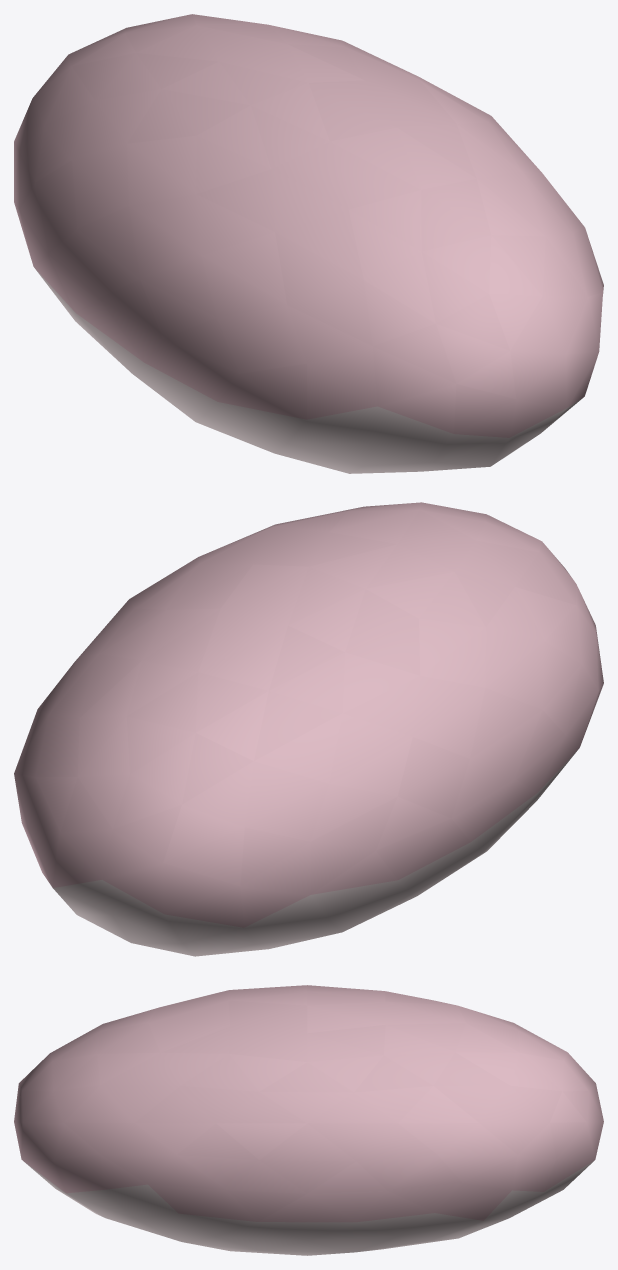
The model's file is axolotl_body.glb.
3 renders of one model, top to bottom at view 1: azimuth 30°, elevation 25°; view 2: azimuth 150°, elevation 25°; view 3: azimuth 270°, elevation 25°, orthographic. The views are drawn at different scales.
Visible parts, largest first — view 1: axolotl_body; view 2: axolotl_body; view 3: axolotl_body.
Part boxes in pixels (x1=…): axolotl_body: x1=14, y1=14, x2=603, y2=473; axolotl_body: x1=14, y1=502, x2=603, y2=956; axolotl_body: x1=14, y1=985, x2=603, y2=1255.
Bounding box in the file's own units: 0.2981 × 0.2206 × 0.5152.
